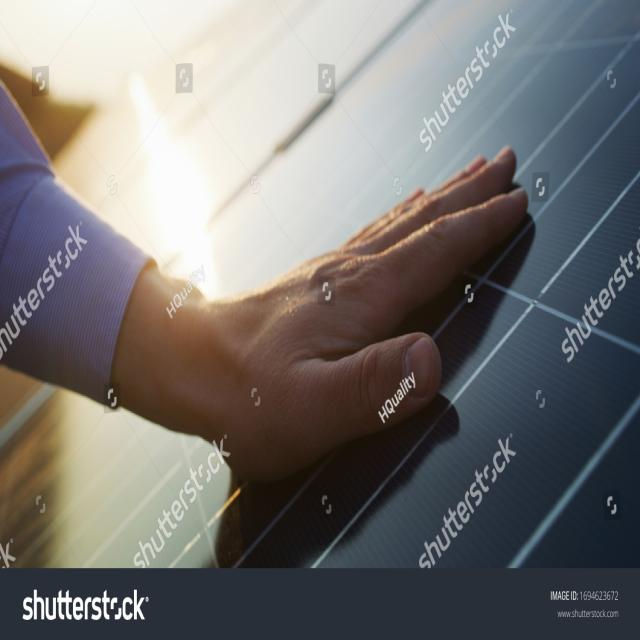clean-solar-panel: (1, 2, 640, 570)
